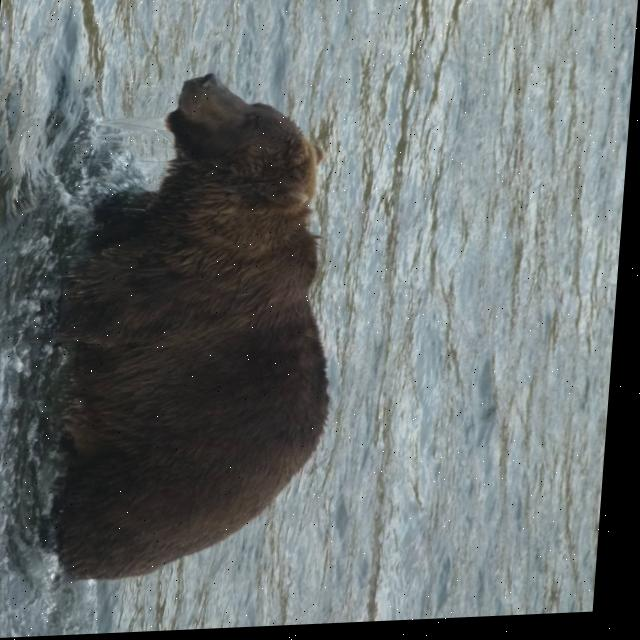bear face: (64, 69, 353, 584)
